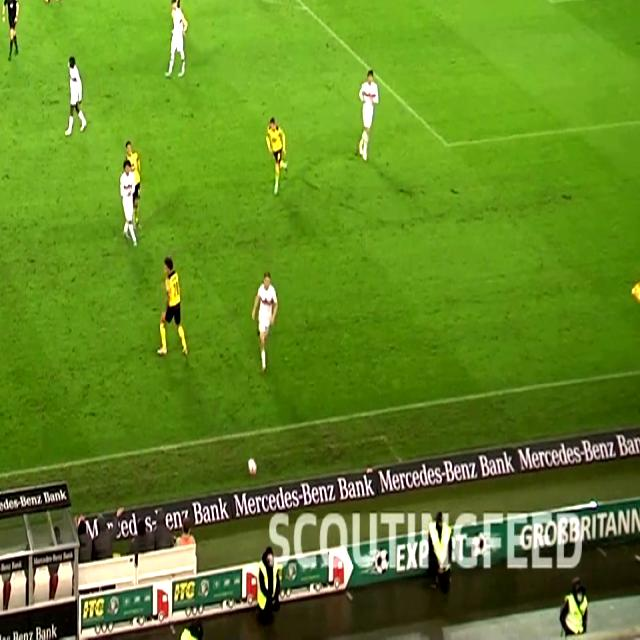ball: (244, 438, 261, 482)
referee: (0, 0, 29, 63)
soccer-player: (152, 256, 198, 368), (346, 67, 394, 165), (241, 272, 283, 380), (111, 148, 151, 250), (57, 56, 94, 144), (160, 0, 198, 84), (256, 109, 293, 195), (40, 0, 74, 7)
